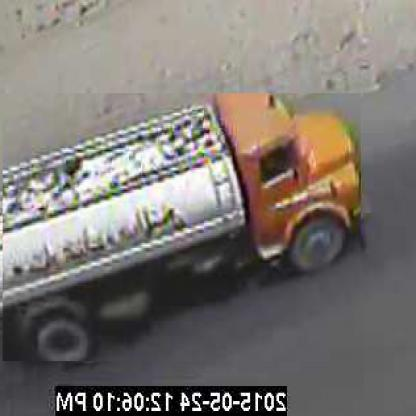truck: (2, 94, 362, 364)
